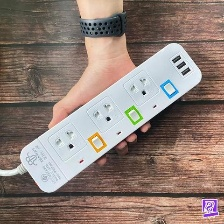three_eye_plug: (15, 37, 204, 198)
